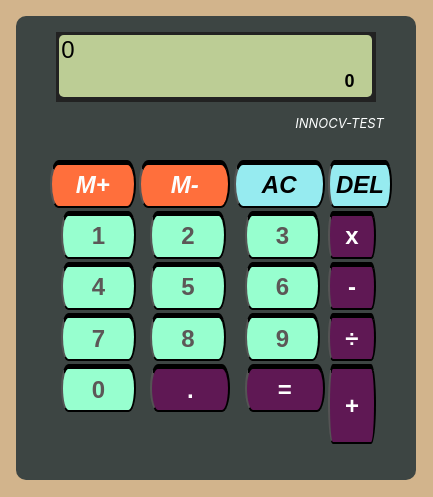
Test: Calculator › should update the current value when a number is clicked
This screenshot has width=433, height=497.
Click the button "1": x=99, y=235 [61, 211, 136, 259]
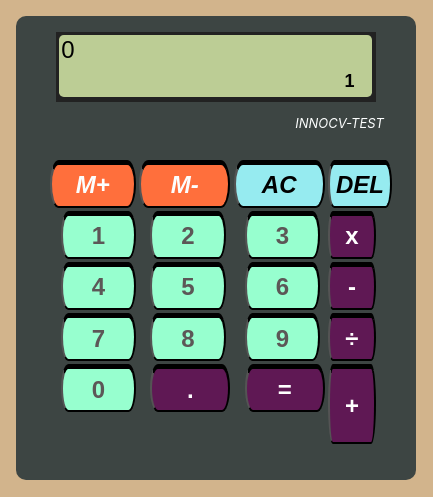
Check: the number field holds "1", box [107, 65, 371, 97]
